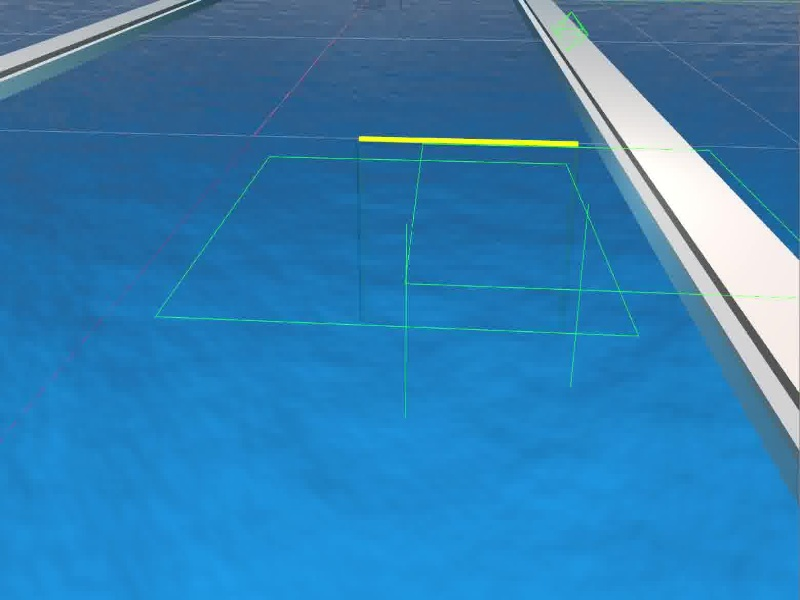gate: (354, 134, 582, 327)
